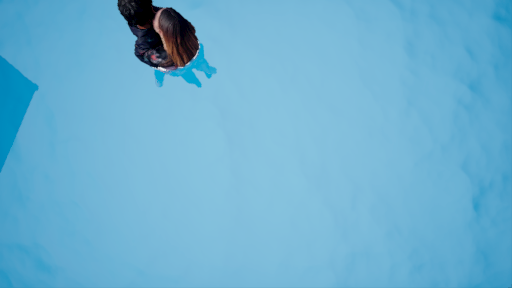person: (112, 2, 235, 87)
